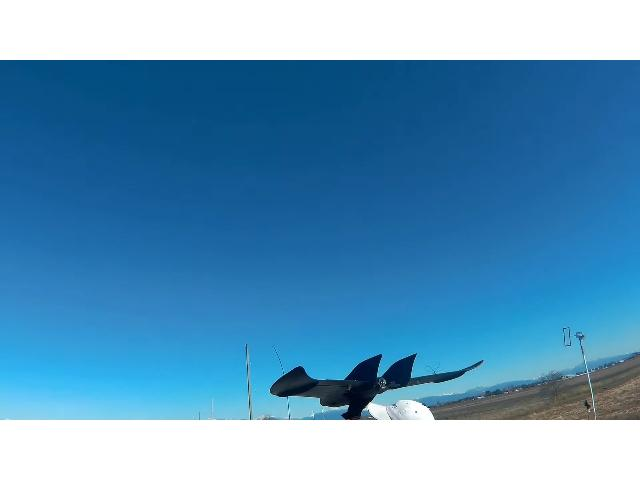Anti-Drone: (253, 341, 503, 416)
